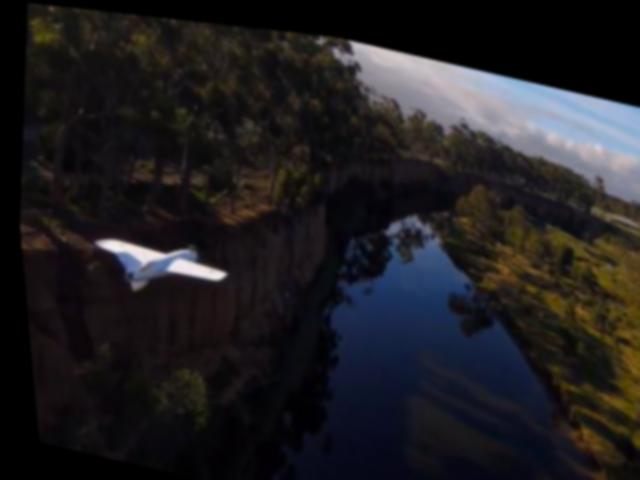uav: (81, 221, 227, 309)
